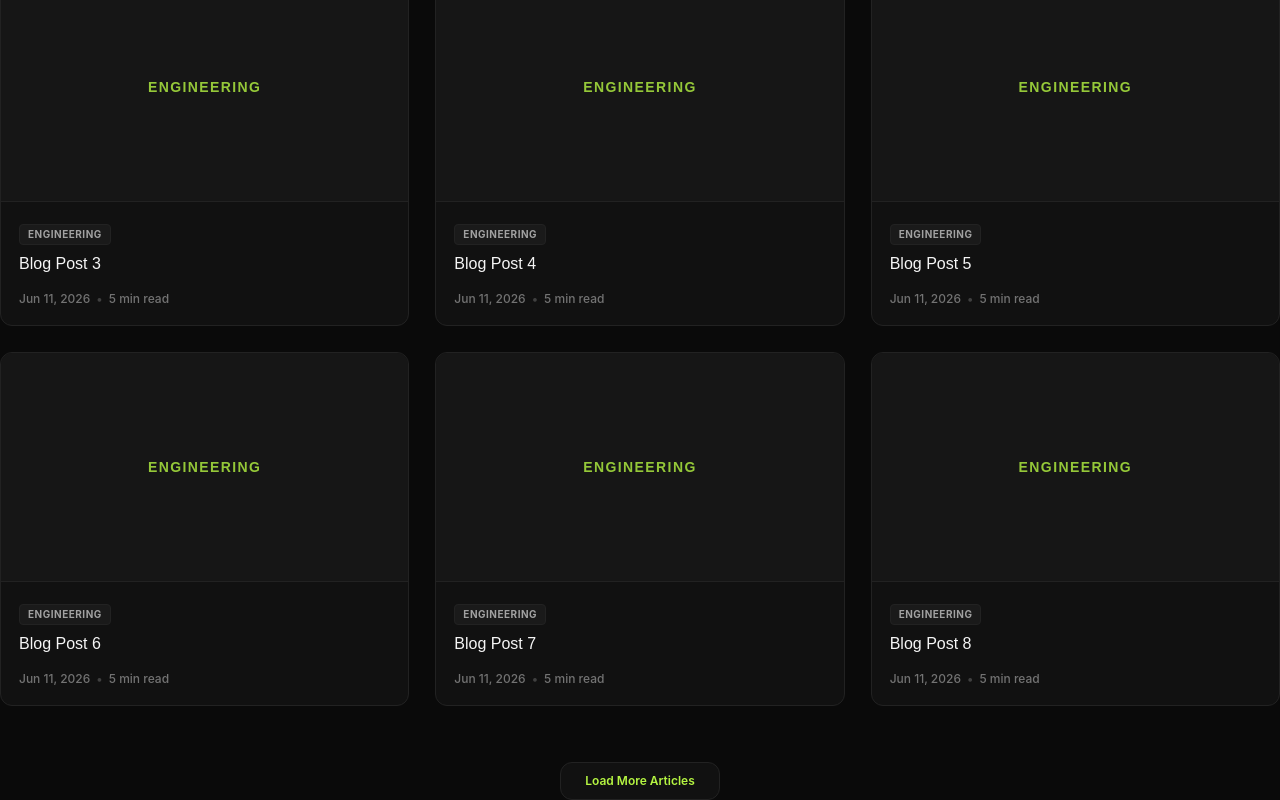
it: BlogGrid › renders Load More pagination button when needed
(page scrolled)
Click the button "Load More Articles" at {"x": 640, "y": 781}, box [560,762,720,799]
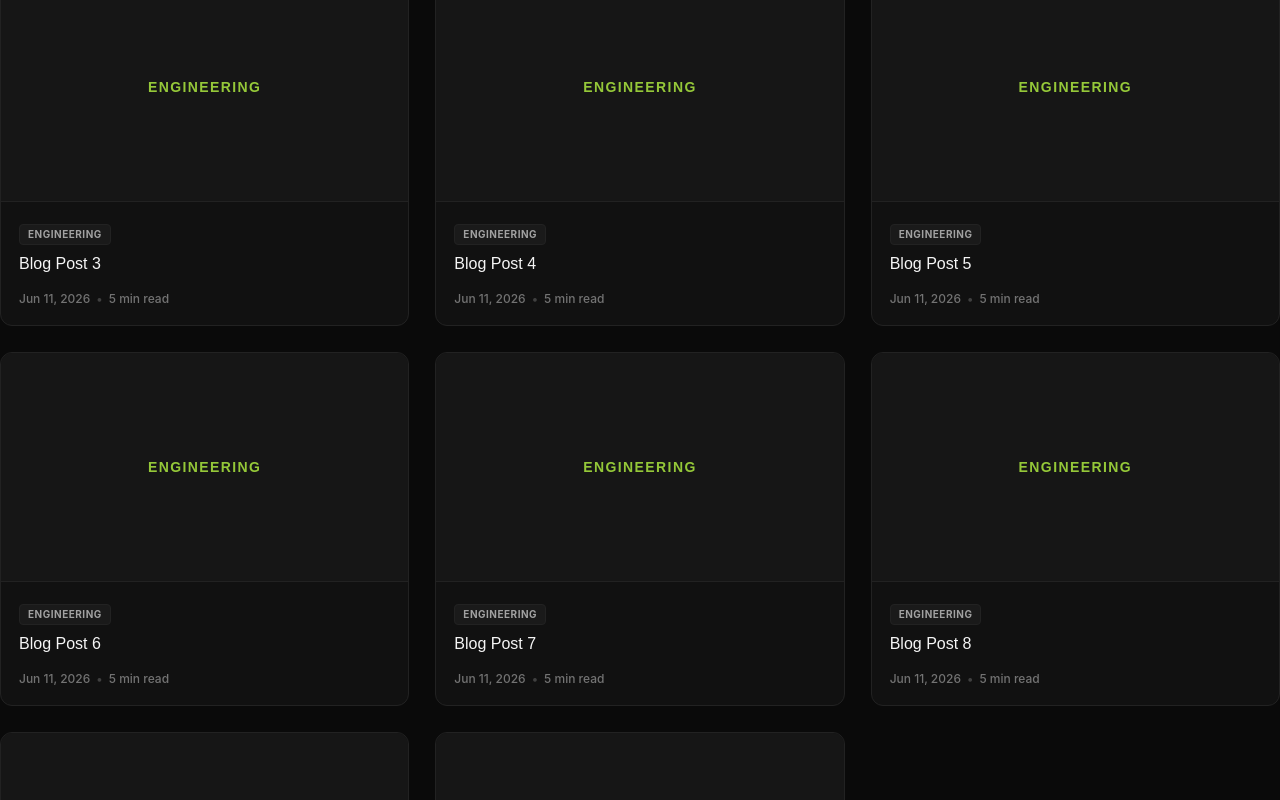
Expected: the button "Load More Articles" is gone
